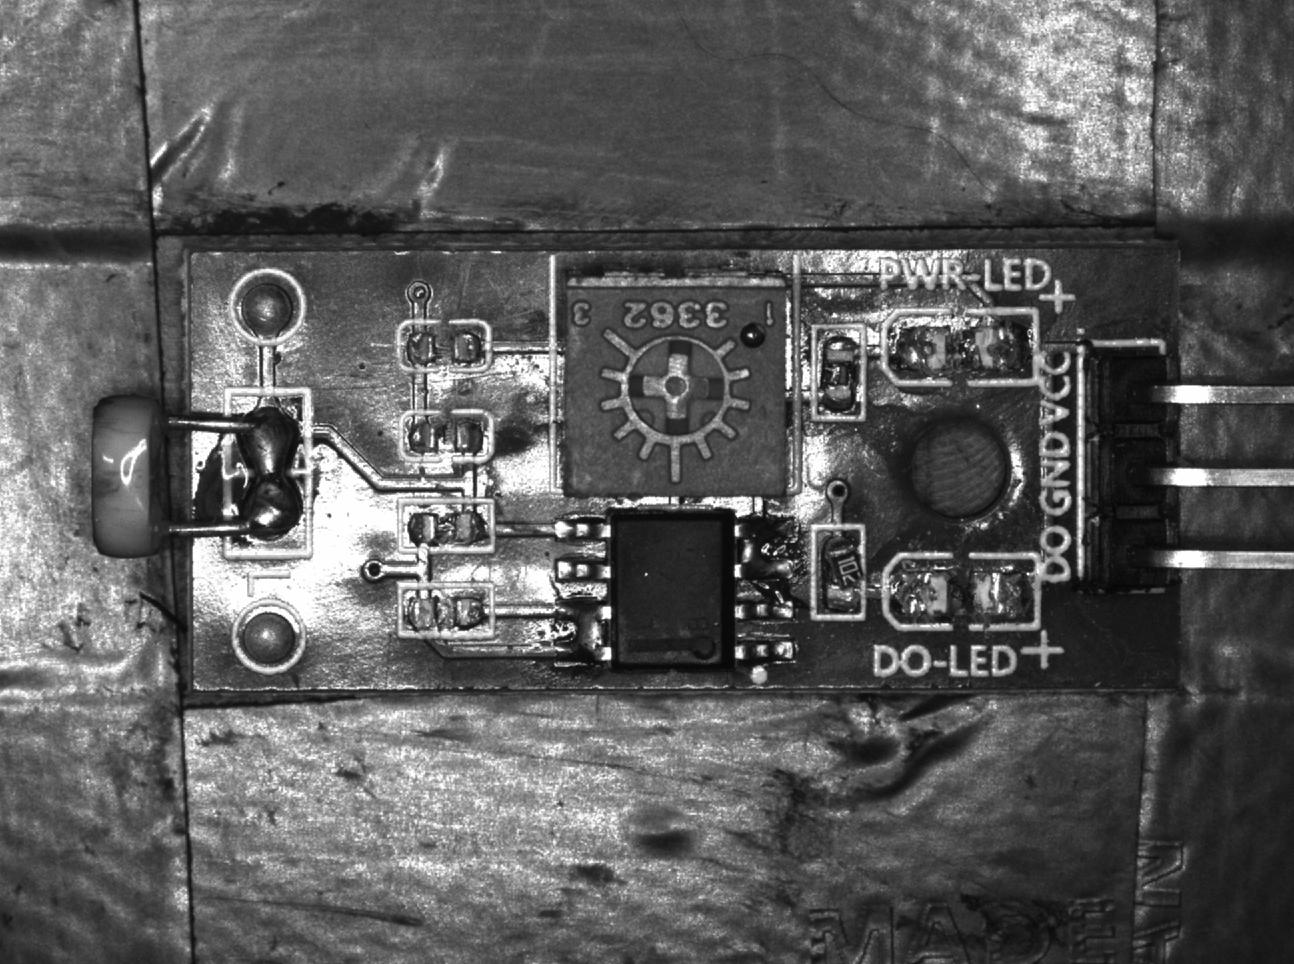bridge: (225, 392, 308, 554), (553, 592, 609, 672), (739, 513, 799, 585)
lifted: (815, 525, 868, 618)
miss: (395, 579, 495, 643), (810, 320, 866, 423), (398, 498, 493, 554), (403, 410, 495, 465), (395, 324, 490, 371)
